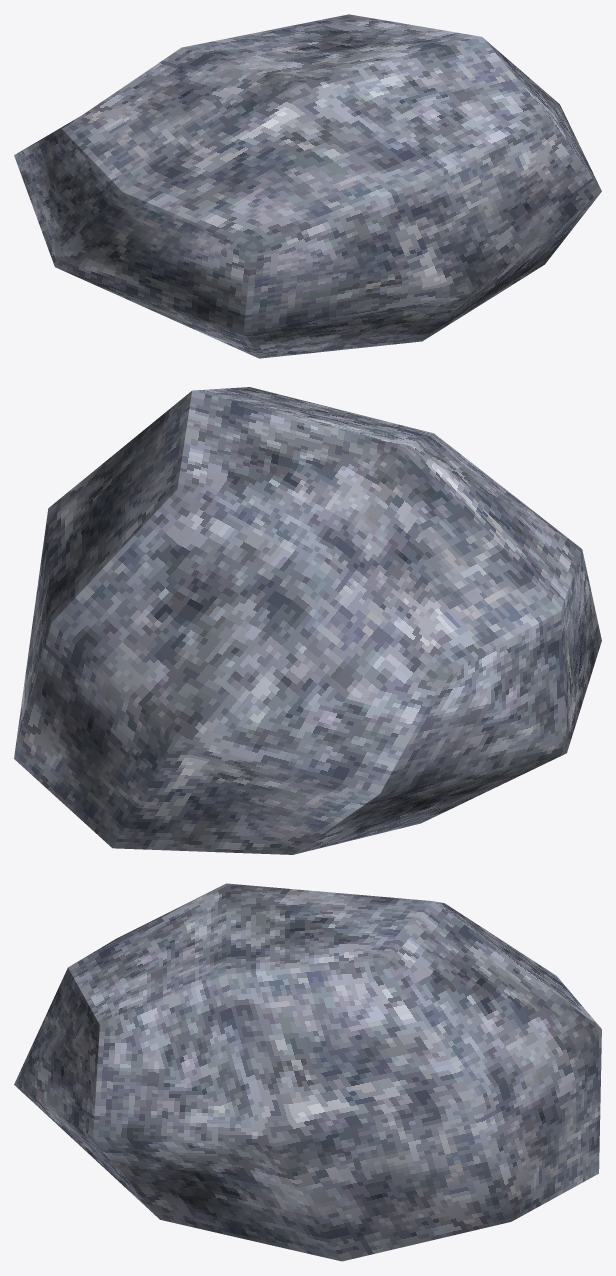
3 views of the same model, one above another, from view 1: azimuth 30°, elevation 25°; view 2: azimuth 150°, elevation 25°; view 3: azimuth 270°, elevation 25° (orthographic). The views are drawn at different scales.
Visible parts, largest first — view 1: MN_01-col; view 2: MN_01-col; view 3: MN_01-col.
Part boxes in pixels (<box>): MN_01-col: <box>14,14,601,358</box>; MN_01-col: <box>14,387,601,854</box>; MN_01-col: <box>14,883,601,1261</box>.
Bounding box in the file's own units: 0.4 × 0.2286 × 0.4009.
1 material, 1 textured.
